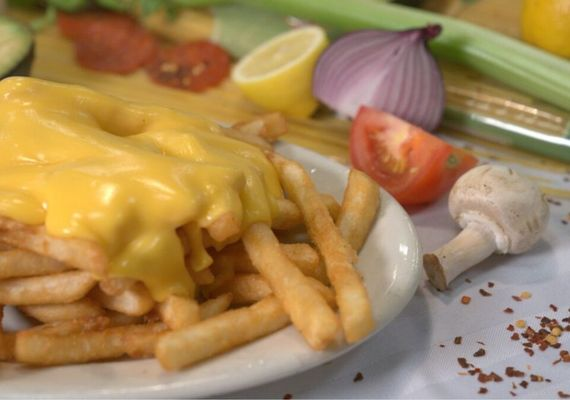curry: (1, 5, 570, 395)
pizza: (348, 106, 480, 207)
